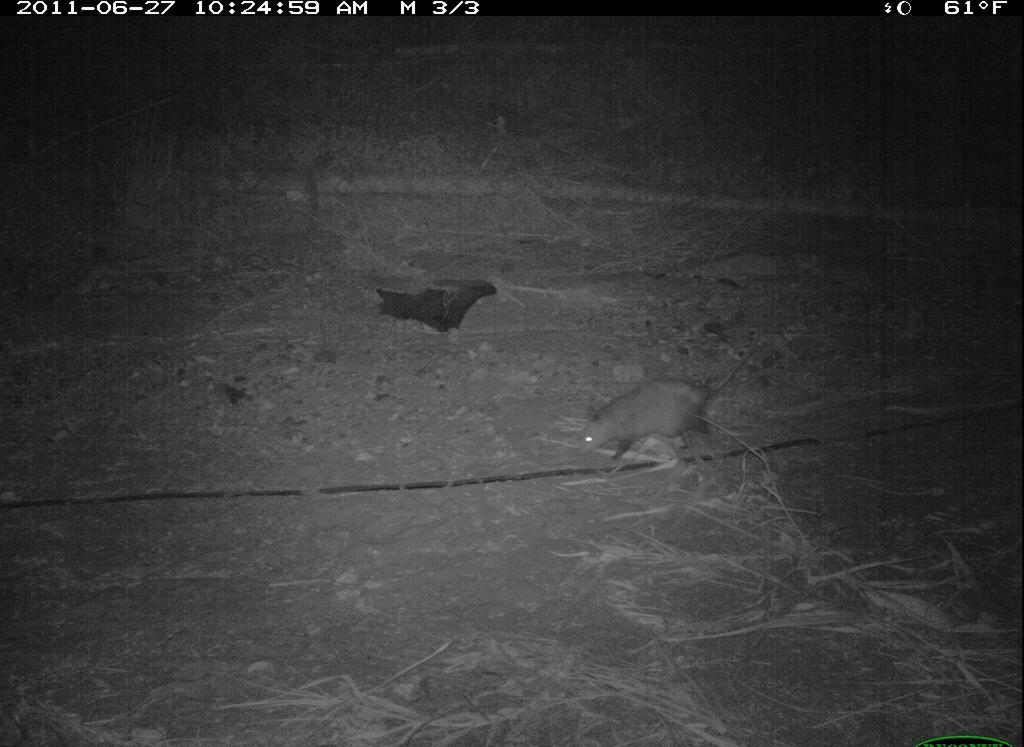opossum: (564, 329, 775, 468)
